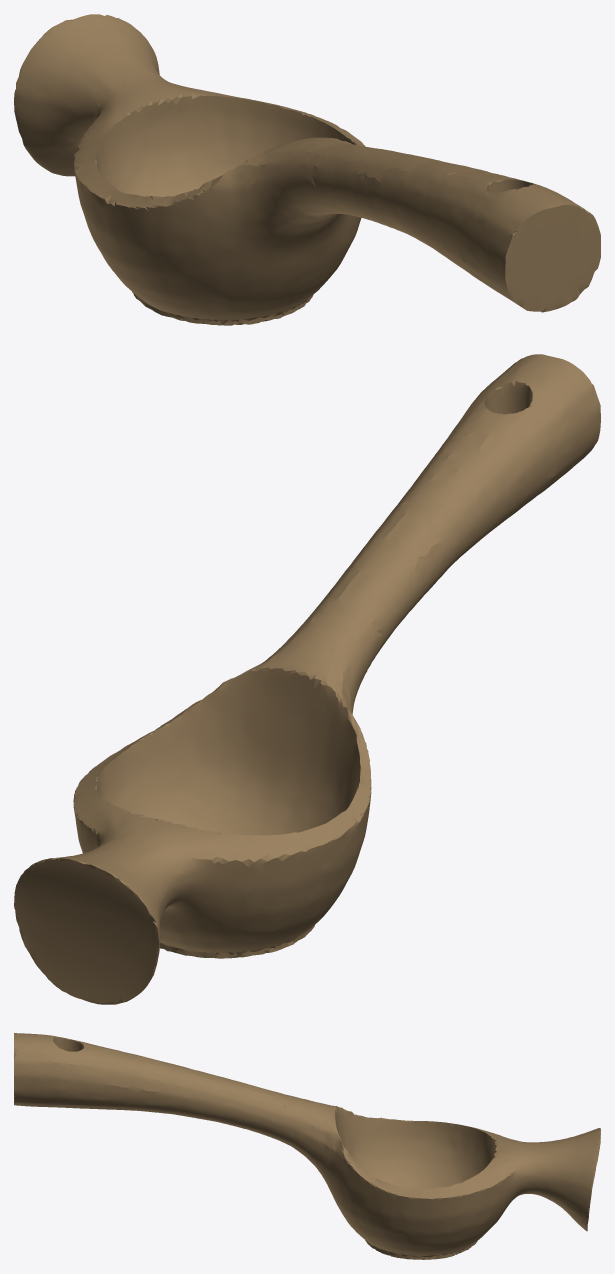
File: sauna-ladle-deepseek.glb
The picture shows the model from 3 angles, top to bottom: view 1: azimuth 30°, elevation 25°; view 2: azimuth 150°, elevation 25°; view 3: azimuth 270°, elevation 25°; orthographic projection. The views are drawn at different scales.
Parts seen in each view (by area): view 1: Sauna_Ladle; view 2: Sauna_Ladle; view 3: Sauna_Ladle.
Boxes of the visible parts, x1=… form: Sauna_Ladle: x1=14, y1=14, x2=600, y2=325; Sauna_Ladle: x1=14, y1=354, x2=600, y2=1004; Sauna_Ladle: x1=14, y1=1033, x2=600, y2=1259.
Size of the model in its own units: 0.155 by 0.187 by 0.5.
